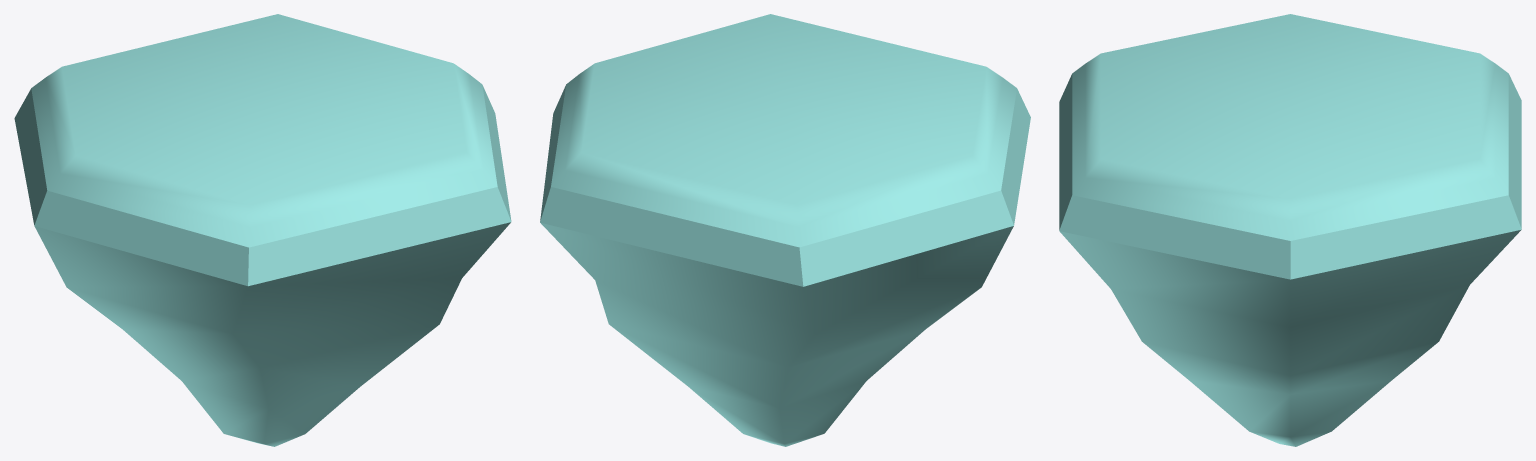
File: Water_Tile.fbx
The picture shows the model from 3 angles, left to right: view 1: azimuth 30°, elevation 25°; view 2: azimuth 150°, elevation 25°; view 3: azimuth 270°, elevation 25°; orthographic projection.
Parts seen in each view (by area): view 1: iland; view 2: iland; view 3: iland.
Boxes of the visible parts, x1,y1,x2,y2 form: iland: (14,14,511,446); iland: (540,14,1030,446); iland: (1059,14,1521,446).
Size of the model in its own units: 11.53 by 7.99 by 9.99.
